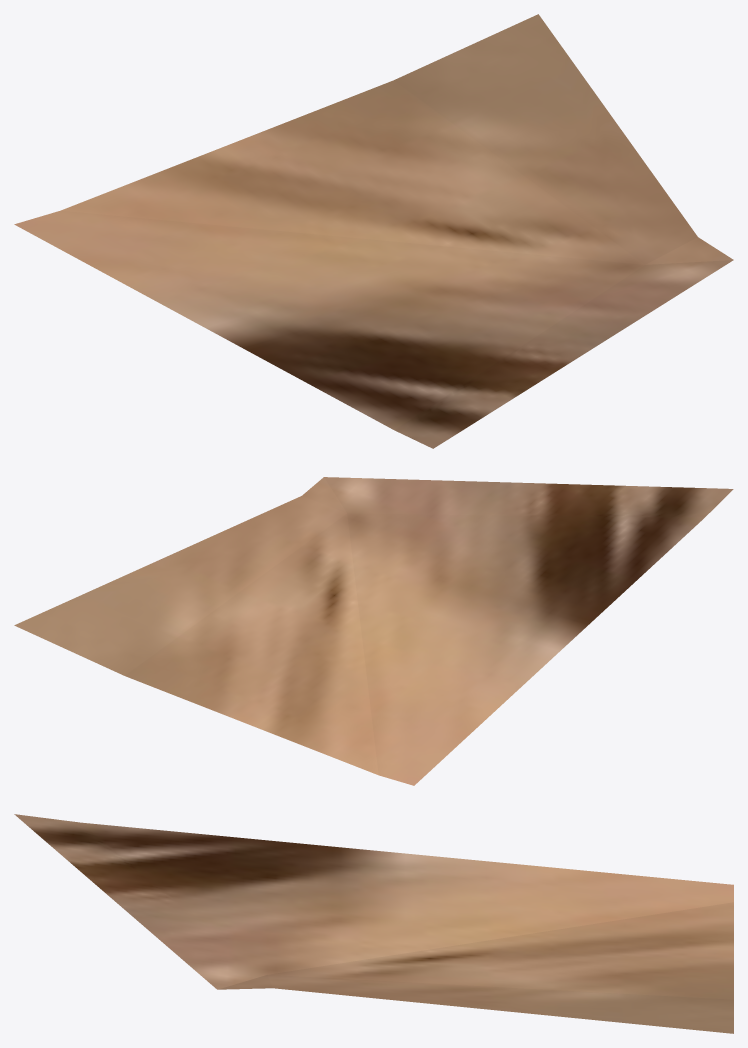
The picture shows the model from 3 angles, top to bottom: view 1: azimuth 30°, elevation 25°; view 2: azimuth 150°, elevation 25°; view 3: azimuth 270°, elevation 25°; orthographic projection. The views are drawn at different scales.
Bounding box in the file's own units: 0.1279 × 0.0192 × 0.177.
1 material, 1 textured.
